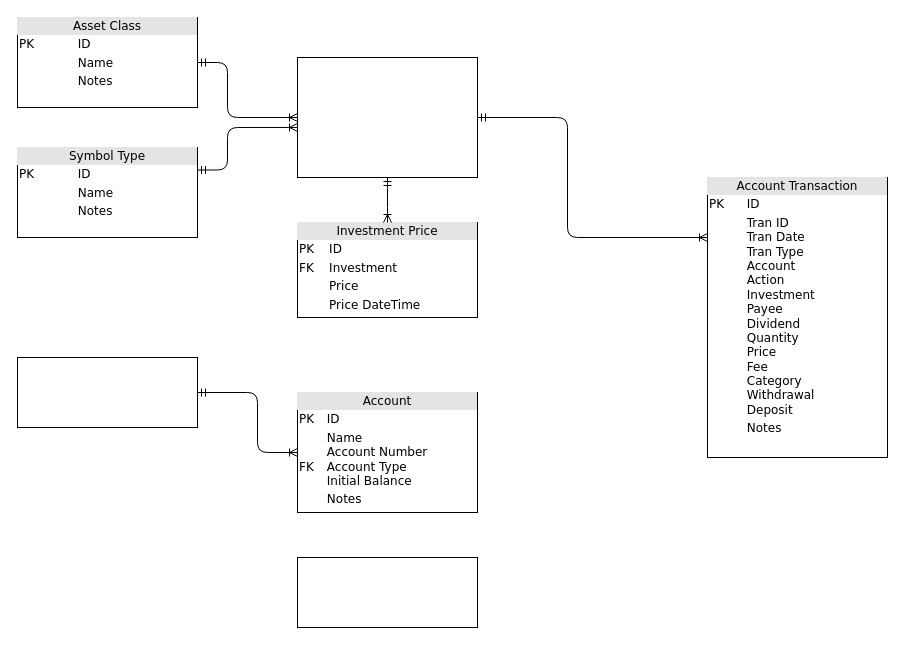
Some shapes in this 905 by 645 pixel diagram are drawn without their labels. Here are the shapes that lost their labels. From the top down, the box of each, then its label:
(296, 56, 478, 178): Investment PK ID FK FK Name Symbol Asset Class Notes
(16, 356, 198, 428): Account Type PK ID Name
(296, 556, 478, 628): Portfolio PK ID Name
